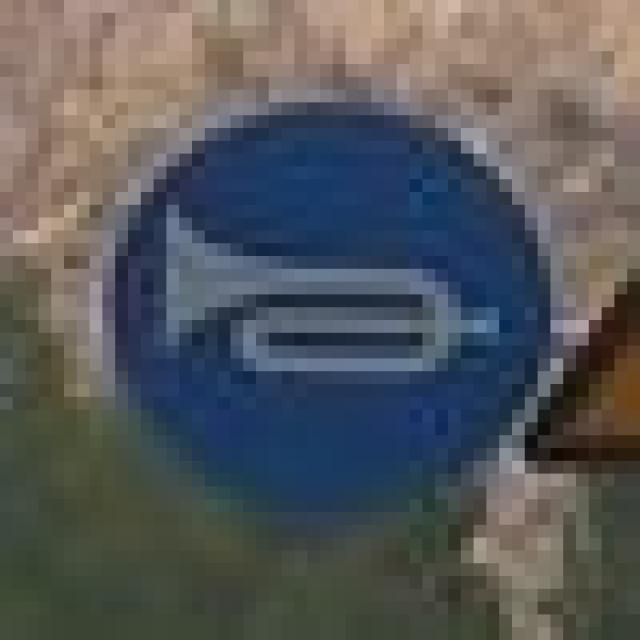COMPULSARY_SOUND_HORN: (76, 77, 538, 512)
